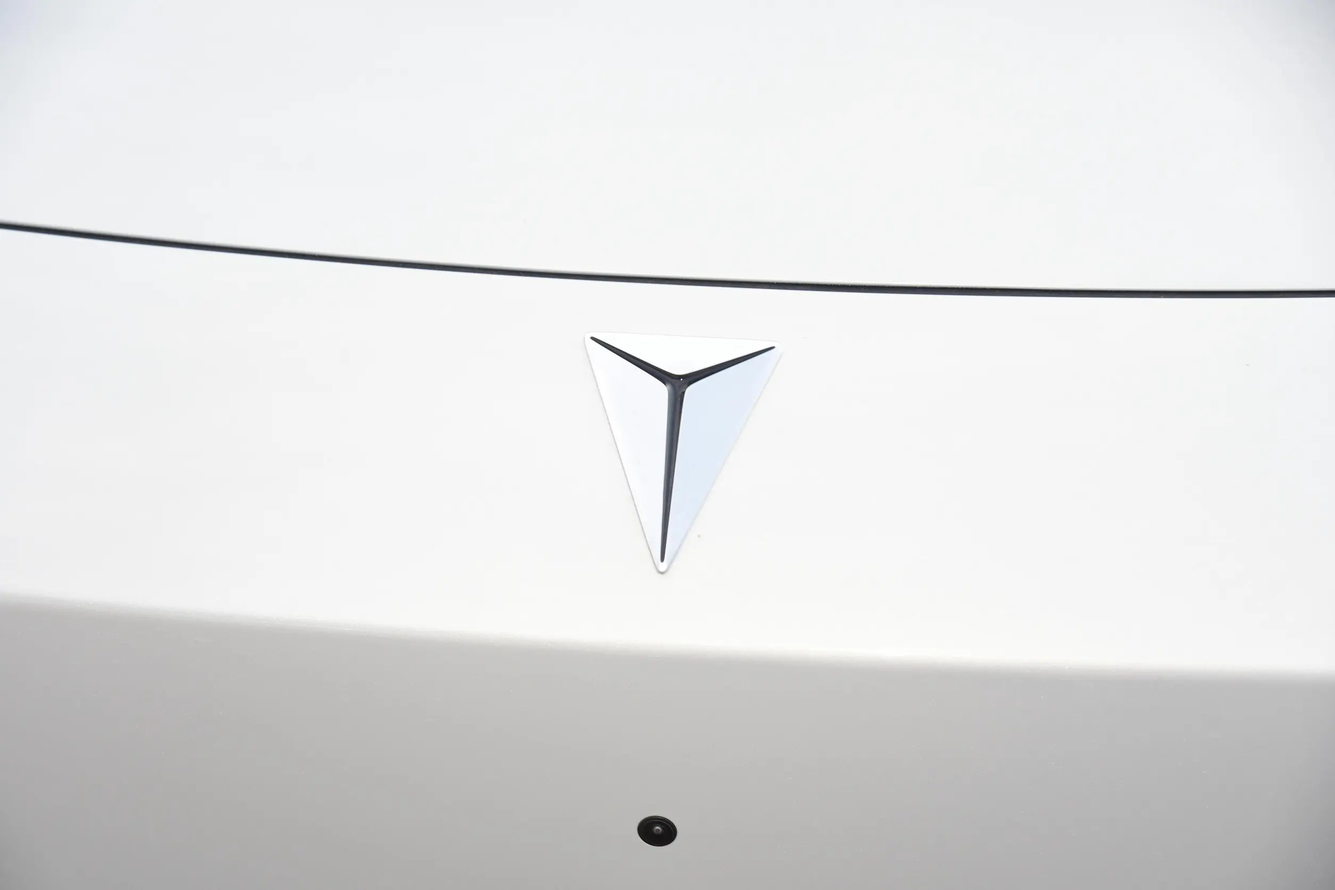Deepal: (585, 331, 780, 573)
